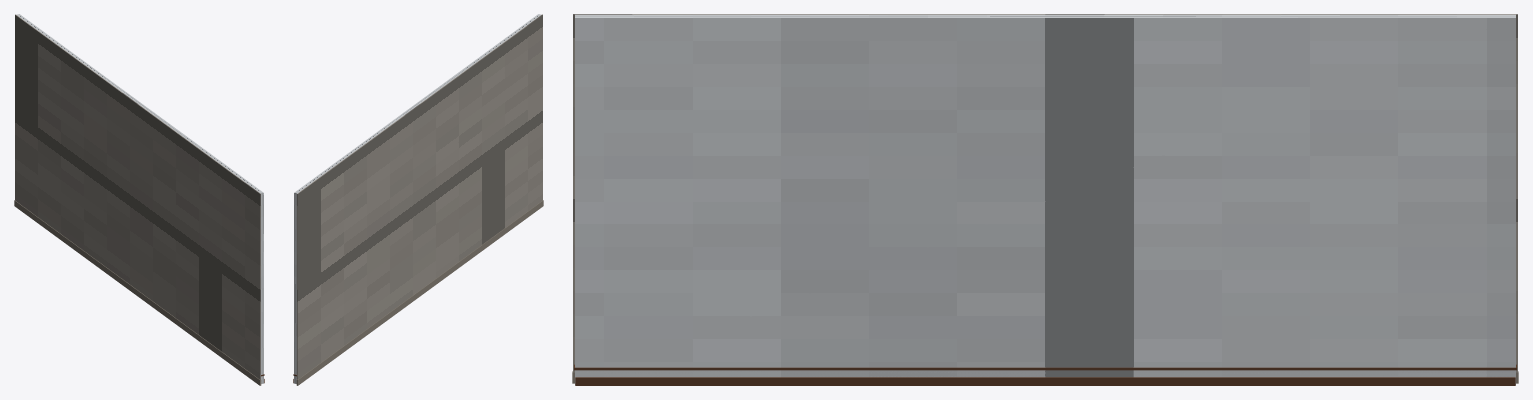
Rendered from high_rear_l.glb.
3 views of the same model, side by side, from view 1: azimuth 30°, elevation 25°; view 2: azimuth 150°, elevation 25°; view 3: azimuth 270°, elevation 25° (orthographic). The views are drawn at different scales.
Visible parts, largest first — view 1: Box3, Box4, Box1; view 2: Box3, Box4, Box1; view 3: Box1, Box2, Box6, Box5, Box3.
Boxes of the visible parts, bbox=[...] form: Box3: bbox=[15, 14, 260, 379]; Box4: bbox=[14, 200, 261, 385]; Box1: bbox=[16, 14, 263, 383]; Box3: bbox=[297, 14, 542, 379]; Box4: bbox=[296, 200, 543, 385]; Box1: bbox=[294, 14, 541, 383]; Box1: bbox=[575, 14, 1515, 384]; Box2: bbox=[575, 377, 1515, 385]; Box6: bbox=[574, 364, 1516, 370]; Box5: bbox=[575, 370, 1515, 384]; Box3: bbox=[573, 14, 1517, 372].
Size of the model in its own units: 0.25 by 8.44 by 19.62.
4 materials, 2 textured.
